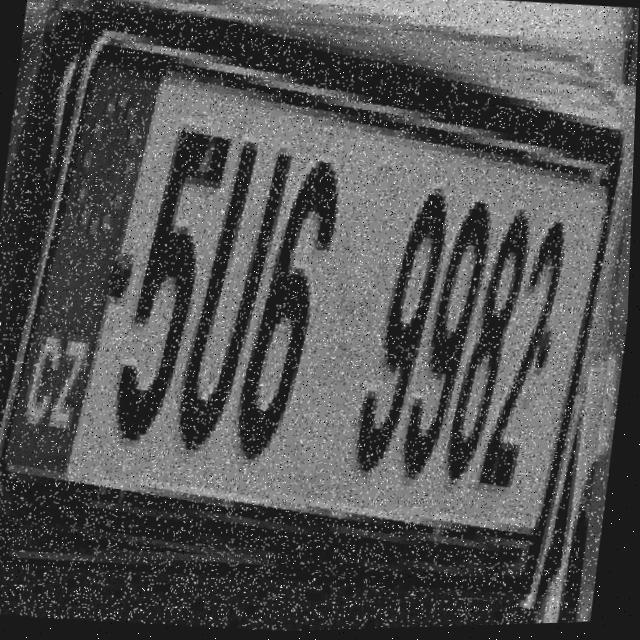LicensePlate: (0, 0, 640, 615)
